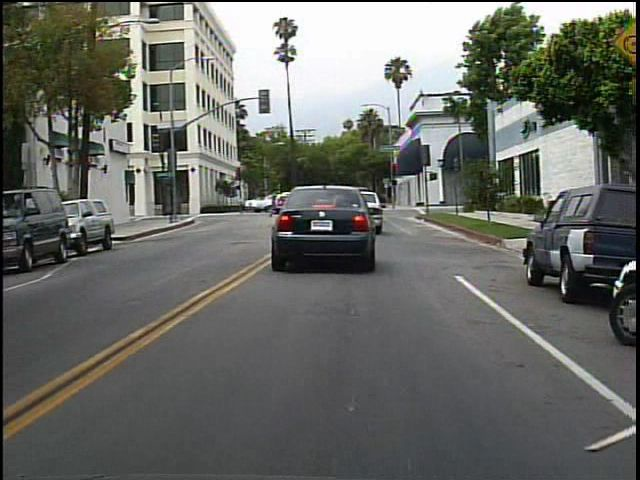person: (267, 187, 293, 222)
